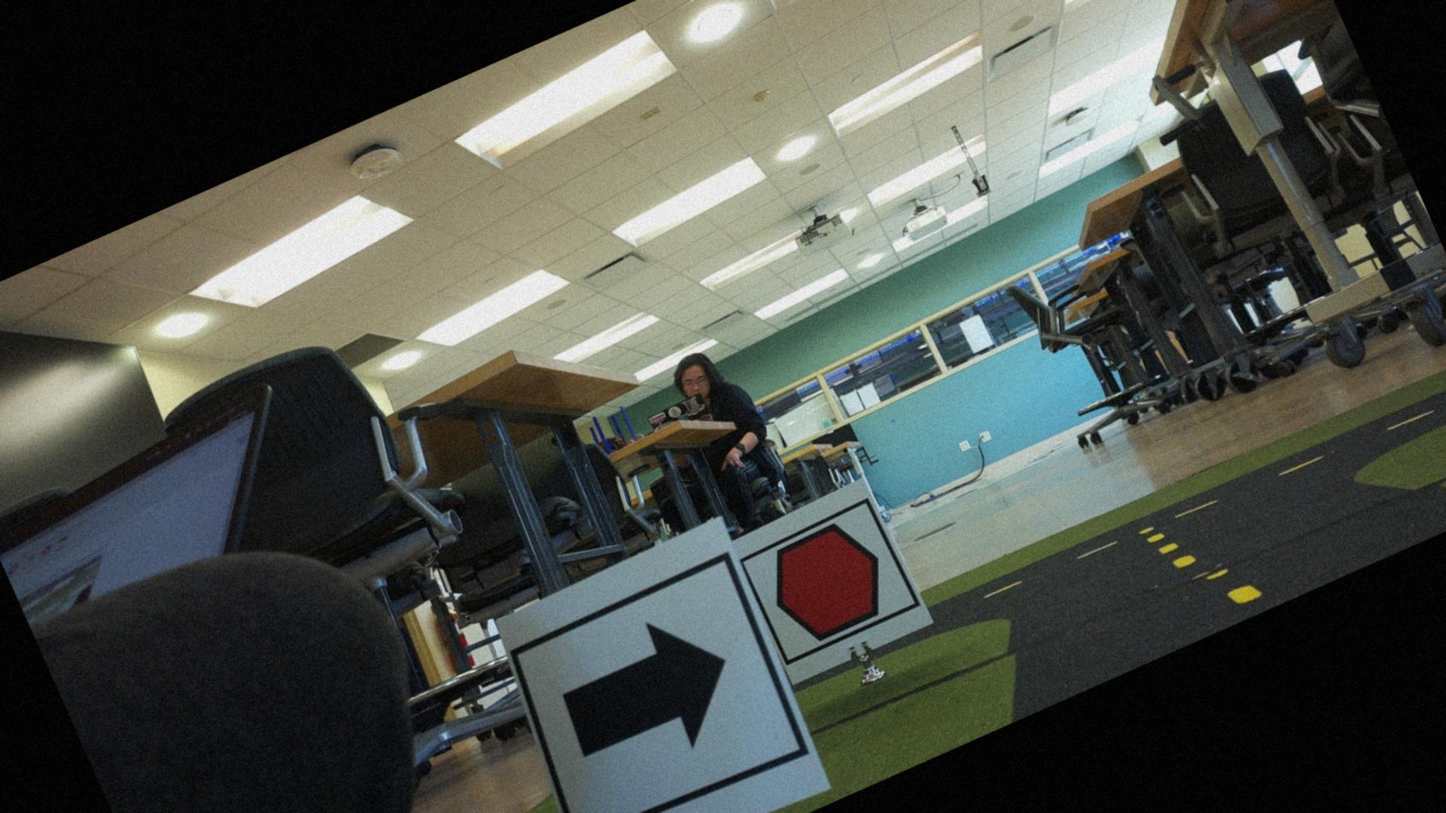stop: (743, 504, 914, 664)
turnright: (509, 559, 813, 812)
yellowline: (1145, 505, 1262, 633)
